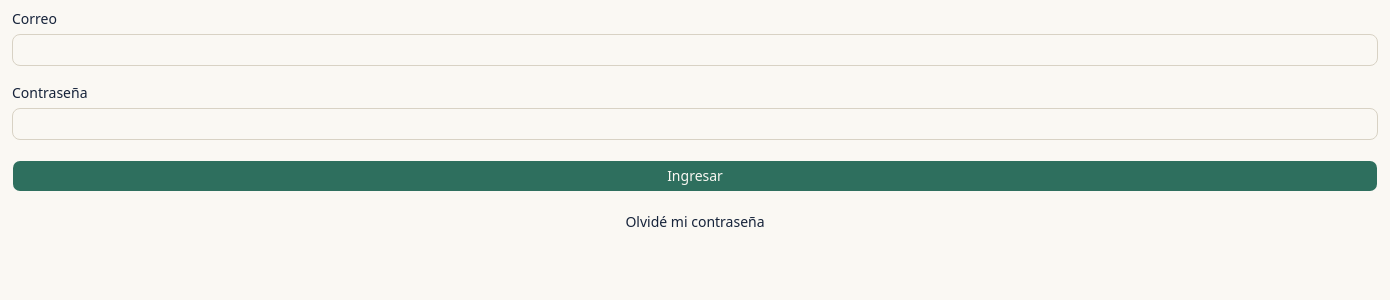
Test: LoginForm › muestra errores de validación cuando se envía vacío
Click the button "Ingresar".
click(695, 176)  # box [12, 160, 1378, 192]
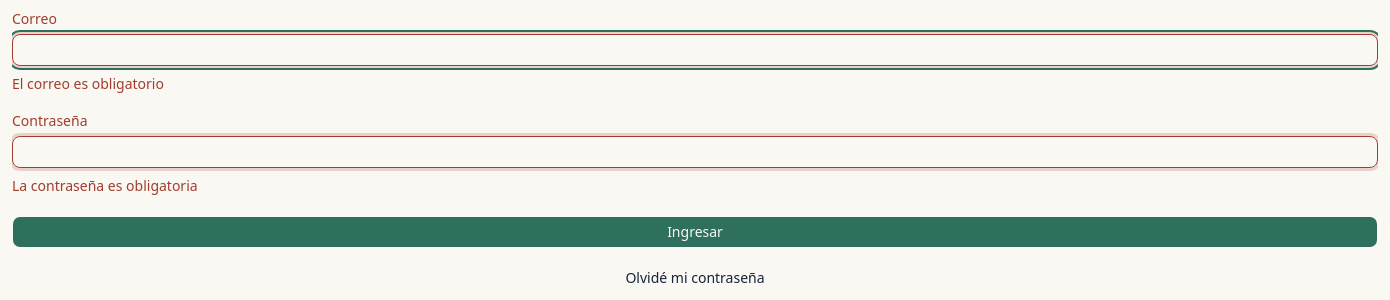
Result: the text "El correo es obligatorio" is shown at [12, 74, 164, 93]
Result: the text "La contraseña es obligatoria" is shown at [12, 176, 198, 195]
